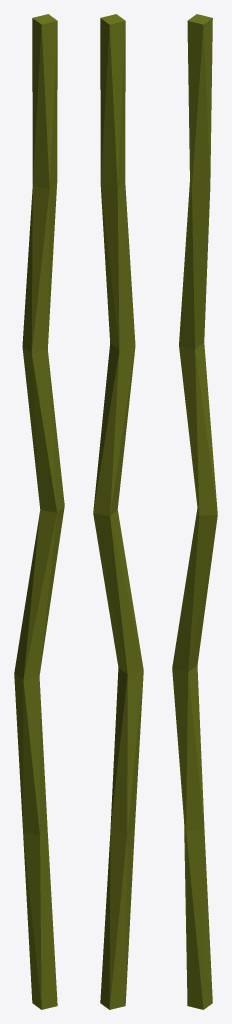
The model's file is Vine_1.fbx.
3 renders of one model, left to right at view 1: azimuth 30°, elevation 25°; view 2: azimuth 210°, elevation 25°; view 3: azimuth 330°, elevation 25°, orthographic.
Parts seen in each view (by area): view 1: Vine_1.001; view 2: Vine_1.001; view 3: Vine_1.001.
Boxes of the visible parts, box(x1,y1,x2,y2) form: Vine_1.001: box(14, 14, 64, 1009); Vine_1.001: box(93, 14, 143, 1009); Vine_1.001: box(172, 14, 217, 1009).
Size of the model in its own units: 0.2036 by 4.41 by 0.1209.
